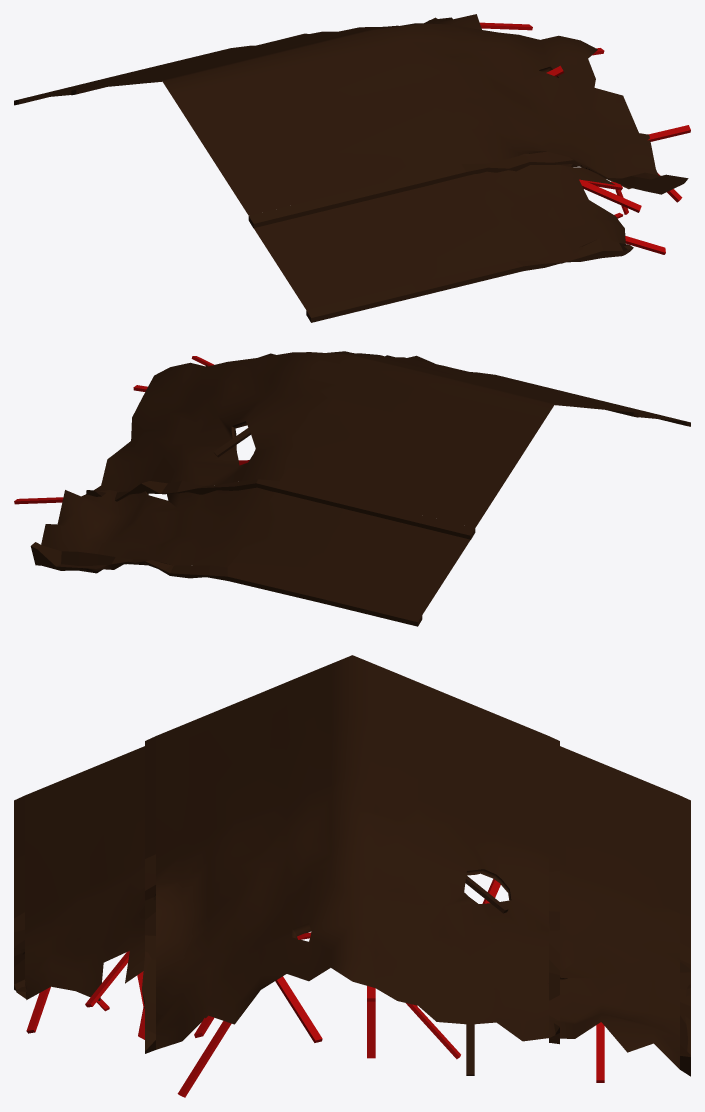
Rendered from roof_Destruction_01.fbx.
The picture shows the model from 3 angles, top to bottom: view 1: azimuth 30°, elevation 25°; view 2: azimuth 150°, elevation 25°; view 3: azimuth 270°, elevation 25°; orthographic projection. The views are drawn at different scales.
Parts seen in each view (by area): view 1: Roof_Destruction01; view 2: Roof_Destruction01; view 3: Roof_Destruction01.
Part boxes in pixels (<box>): Roof_Destruction01: <box>14,14,690,322</box>; Roof_Destruction01: <box>14,351,690,626</box>; Roof_Destruction01: <box>14,655,690,1097</box>.
Bounding box in the file's own units: 1437 × 496 × 1550.
